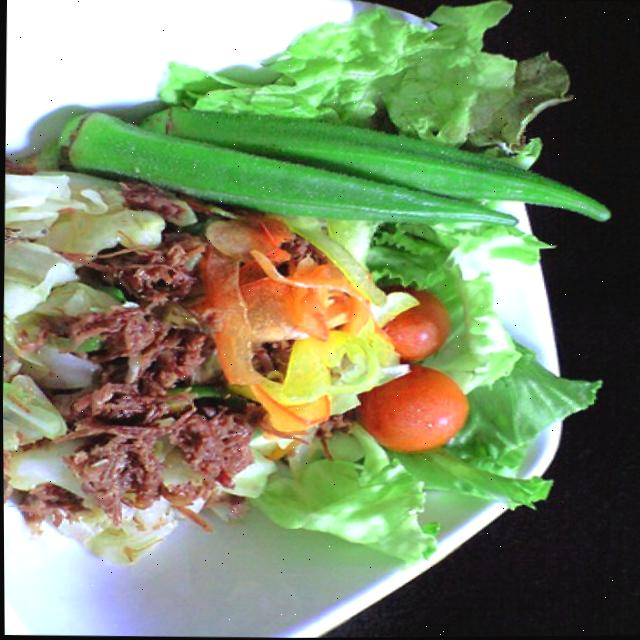蔬菜料理: (0, 0, 615, 608)
